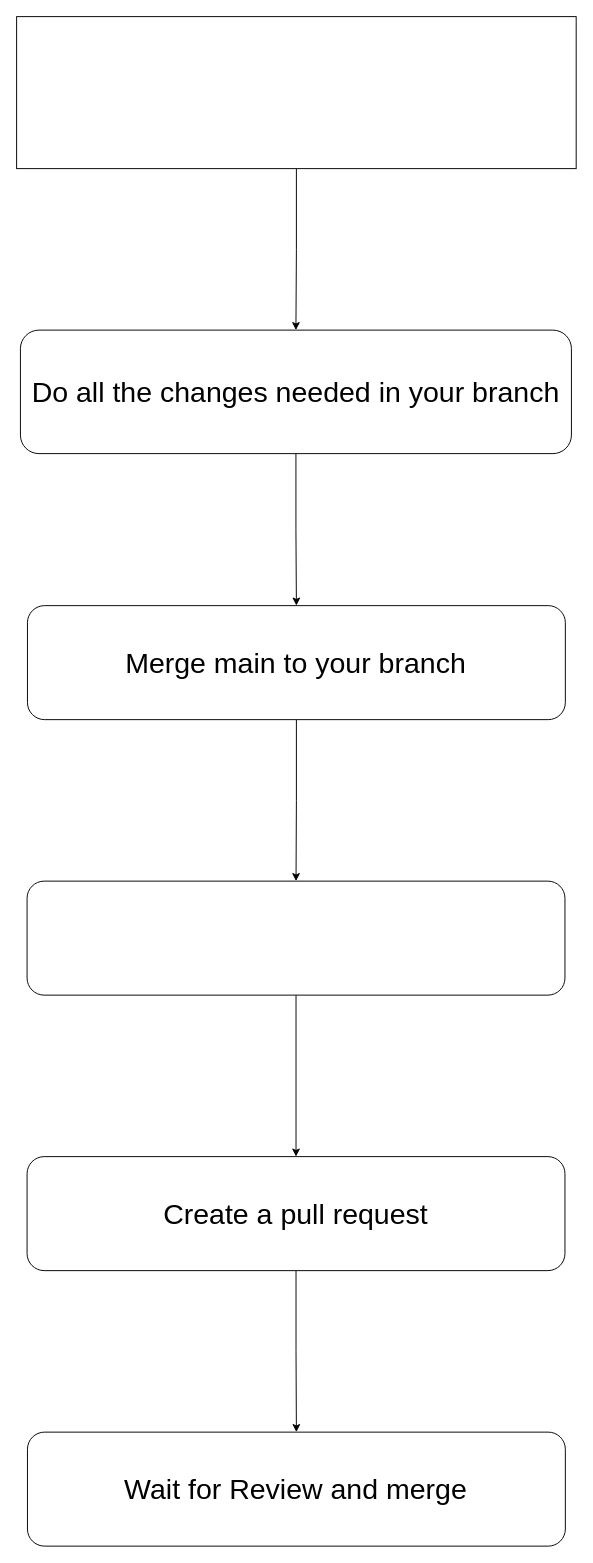
Some shapes in this 593 by 1563 pixel diagram are drawn without their labels. Each missing label, with the centre of its shape:
Create a task specific branch: (x=296, y=92)
push changes to remote: (x=295, y=937)
